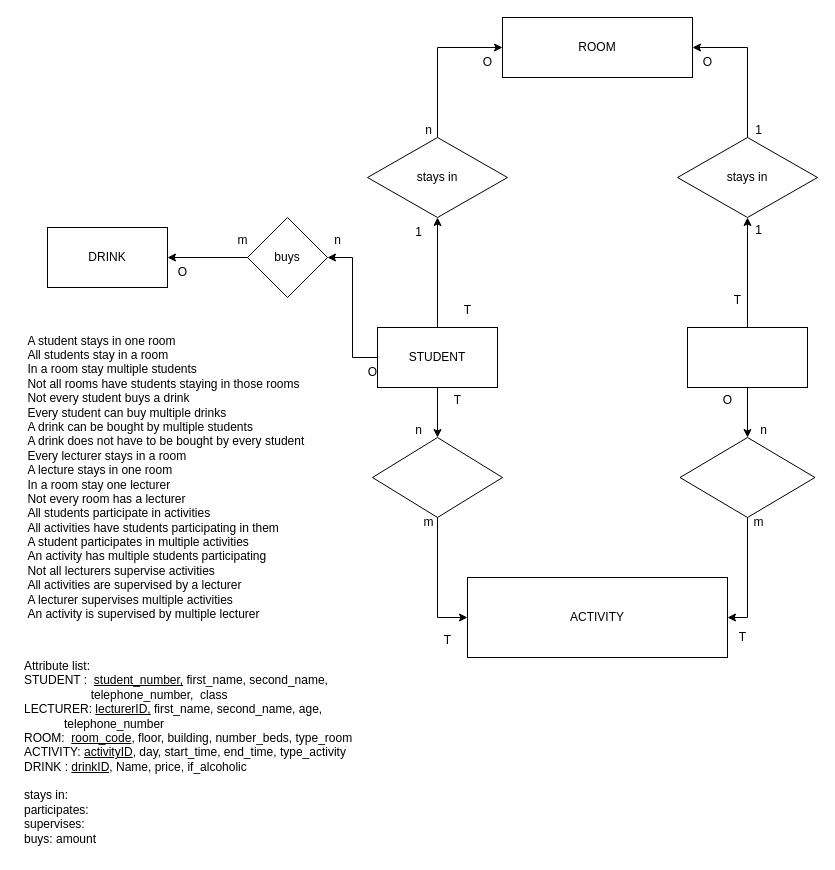
Some shapes in this 835 by 870 pixel diagram are drawn without their labels. The shapes that lost their labels are listed below. From the top down, each one's centre as x and y in pixels, then its label:
At (747,357): "LECTURER".
At (437,477): "participates".
At (747,477): "supervises".
